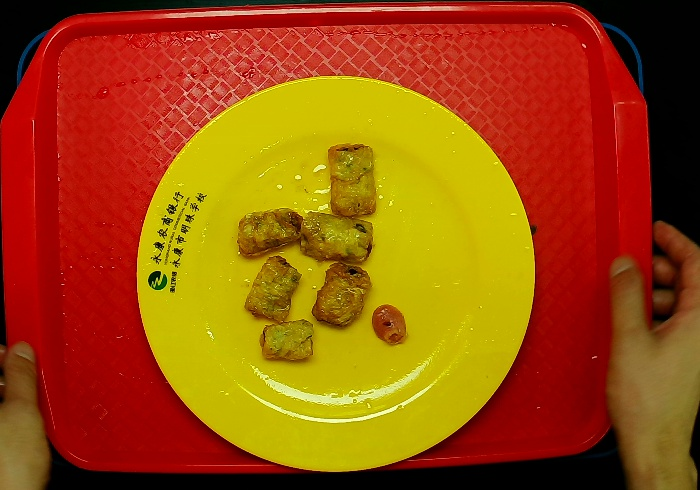YKMZ-Huang_Se_Mian_Pan: (135, 73, 540, 475)
